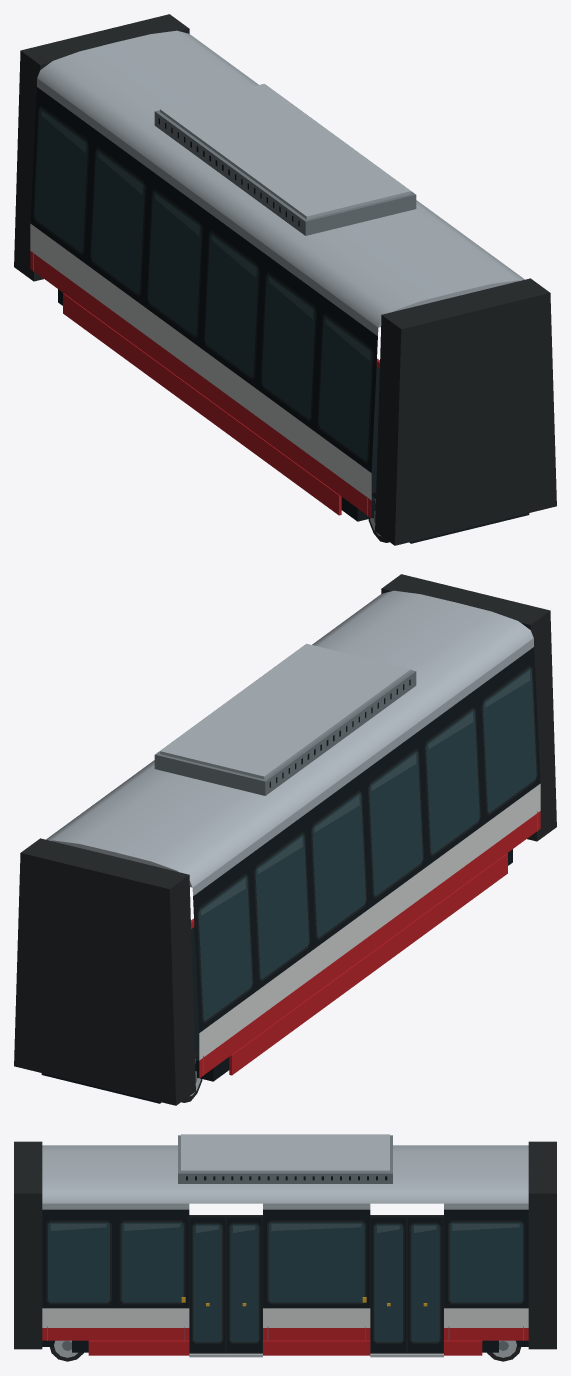
File: 15t-b-viewer.glb
The picture shows the model from 3 angles, top to bottom: view 1: azimuth 30°, elevation 25°; view 2: azimuth 150°, elevation 25°; view 3: azimuth 270°, elevation 25°; orthographic projection. The views are drawn at different scales.
Parts seen in each view (by area): view 1: 15t-b; view 2: 15t-b; view 3: 15t-b, 15t-b-door-1-1.050-0, 15t-b-door-1--2.150-0, 15t-b-door-1-1.050-1, 15t-b-door-1--2.150-1.
Part boxes in pixels (x1=…): 15t-b: x1=14, y1=14, x2=556, y2=545; 15t-b: x1=14, y1=574, x2=556, y2=1105; 15t-b: x1=14, y1=1134, x2=556, y2=1361; 15t-b-door-1-1.050-0: x1=226, y1=1217, x2=262, y2=1352; 15t-b-door-1--2.150-0: x1=407, y1=1217, x2=443, y2=1352; 15t-b-door-1-1.050-1: x1=190, y1=1217, x2=225, y2=1352; 15t-b-door-1--2.150-1: x1=371, y1=1217, x2=406, y2=1352.
Bounding box in the file's own units: 2.55 × 3.69 × 9.6.
